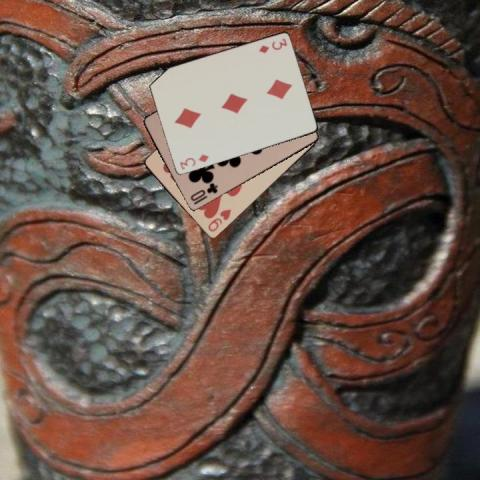10c: (188, 180, 220, 206)
3d: (177, 152, 210, 172), (256, 35, 288, 55)
9h: (204, 206, 232, 233)
